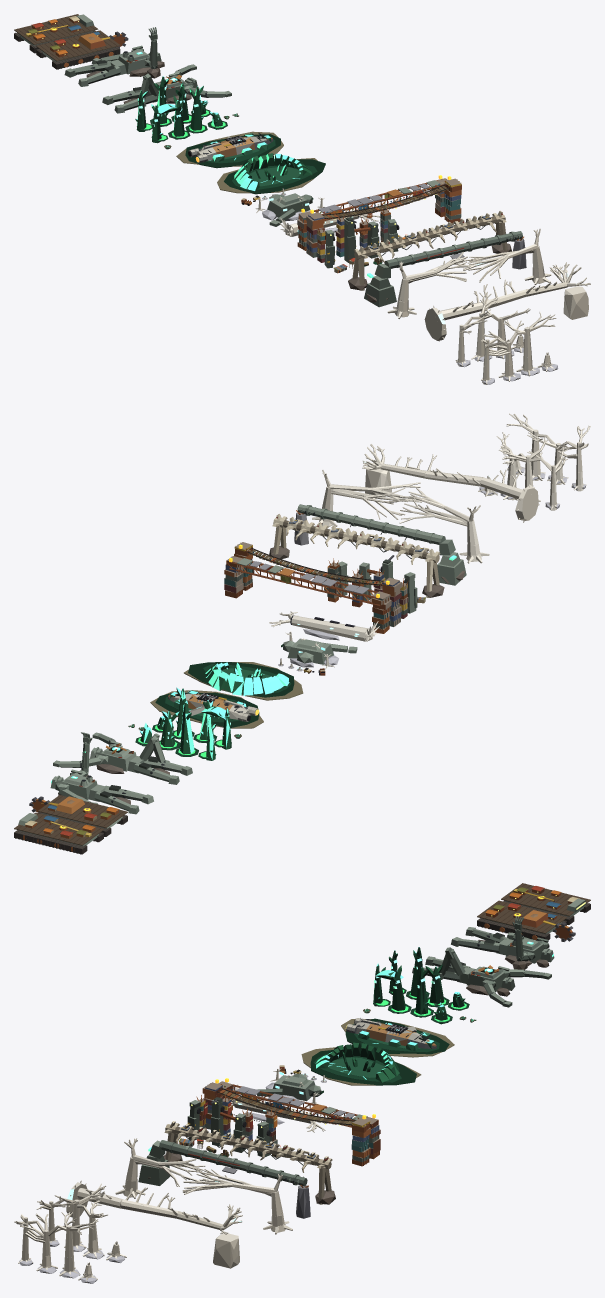
Rendered from set_ashgrave.glb.
3 views of the same model, one above another, from view 1: azimuth 30°, elevation 25°; view 2: azimuth 150°, elevation 25°; view 3: azimuth 330°, elevation 25° (orthographic). The views are drawn at different scales.
Parts seen in each view (by area): view 1: ashgrave_glass_ship_1.001, ashgrave_white_canopy_1.001, ashgrave_titan_spine_1.001, ashgrave_titan_spine_0.001, ashgrave_white_canopy_0.001, ashgrave_glass_ship_0.001, ashgrave_scrap_gantry_1.001, ashgrave_fallen_titan_0.001, ashgrave_white_trunks_1.001, ashgrave_crawler_town_1.001, ashgrave_fallen_titan_1.001, ashgrave_scrap_gantry_0.001 (+8 smaller); view 2: ashgrave_white_canopy_0.001, ashgrave_scrap_gantry_0.001, ashgrave_titan_spine_0.001, ashgrave_glass_ship_1.001, ashgrave_white_canopy_1.001, ashgrave_fallen_titan_1.001, ashgrave_titan_spine_1.001, ashgrave_glass_ship_0.001, ashgrave_crawler_town_0.001, ashgrave_fallen_titan_0.001, ashgrave_scrap_gantry_1.001, ashgrave_crawler_town_1.001 (+8 smaller); view 3: ashgrave_glass_ship_1.001, ashgrave_white_canopy_1.001, ashgrave_titan_spine_0.001, ashgrave_white_canopy_0.001, ashgrave_glass_ship_0.001, ashgrave_titan_spine_1.001, ashgrave_fallen_titan_1.001, ashgrave_fallen_titan_0.001, ashgrave_scrap_gantry_1.001, ashgrave_white_trunks_1.001, ashgrave_crawler_town_1.001, ashgrave_scrap_gantry_0.001 (+8 smaller).
Boxes of the visible parts, x1,y1,x2,y2 form: ashgrave_glass_ship_1.001: [217, 153, 325, 194]; ashgrave_white_canopy_1.001: [424, 262, 590, 341]; ashgrave_titan_spine_1.001: [364, 231, 526, 307]; ashgrave_titan_spine_0.001: [348, 210, 511, 290]; ashgrave_white_canopy_0.001: [387, 228, 551, 318]; ashgrave_glass_ship_0.001: [176, 131, 283, 168]; ashgrave_scrap_gantry_1.001: [306, 176, 461, 257]; ashgrave_fallen_titan_0.001: [64, 27, 164, 86]; ashgrave_white_trunks_1.001: [481, 312, 558, 384]; ashgrave_crawler_town_1.001: [36, 30, 120, 69]; ashgrave_fallen_titan_1.001: [102, 64, 231, 113]; ashgrave_scrap_gantry_0.001: [297, 175, 447, 250]; ashgrave_white_canopy_0.001: [312, 470, 489, 563]; ashgrave_scrap_gantry_0.001: [224, 556, 391, 633]; ashgrave_titan_spine_0.001: [269, 514, 444, 597]; ashgrave_glass_ship_1.001: [184, 662, 303, 700]; ashgrave_white_canopy_1.001: [362, 444, 538, 522]; ashgrave_fallen_titan_1.001: [53, 732, 192, 784]; ashgrave_titan_spine_1.001: [294, 504, 466, 585]; ashgrave_glass_ship_0.001: [150, 690, 263, 728]; ashgrave_crawler_town_0.001: [14, 812, 103, 854]; ashgrave_fallen_titan_0.001: [50, 732, 153, 814]; ashgrave_scrap_gantry_1.001: [234, 542, 402, 626]; ashgrave_crawler_town_1.001: [38, 795, 127, 836]; ashgrave_glass_ship_1.001: [301, 1042, 421, 1085]; ashgrave_white_canopy_1.001: [66, 1180, 242, 1268]; ashgrave_titan_spine_0.001: [163, 1121, 335, 1204]; ashgrave_white_canopy_0.001: [115, 1138, 292, 1234]; ashgrave_glass_ship_0.001: [341, 1018, 454, 1057]; ashgrave_titan_spine_1.001: [138, 1140, 310, 1218]; ashgrave_fallen_titan_1.001: [412, 947, 551, 1007]; ashgrave_fallen_titan_0.001: [451, 916, 554, 969]; ashgrave_scrap_gantry_1.001: [202, 1079, 370, 1166]; ashgrave_white_trunks_1.001: [14, 1212, 98, 1283]; ashgrave_crawler_town_1.001: [477, 900, 566, 940]; ashgrave_scrap_gantry_0.001: [218, 1078, 380, 1159].
Bounding box in the file's own units: 101 × 36.1 × 522.
